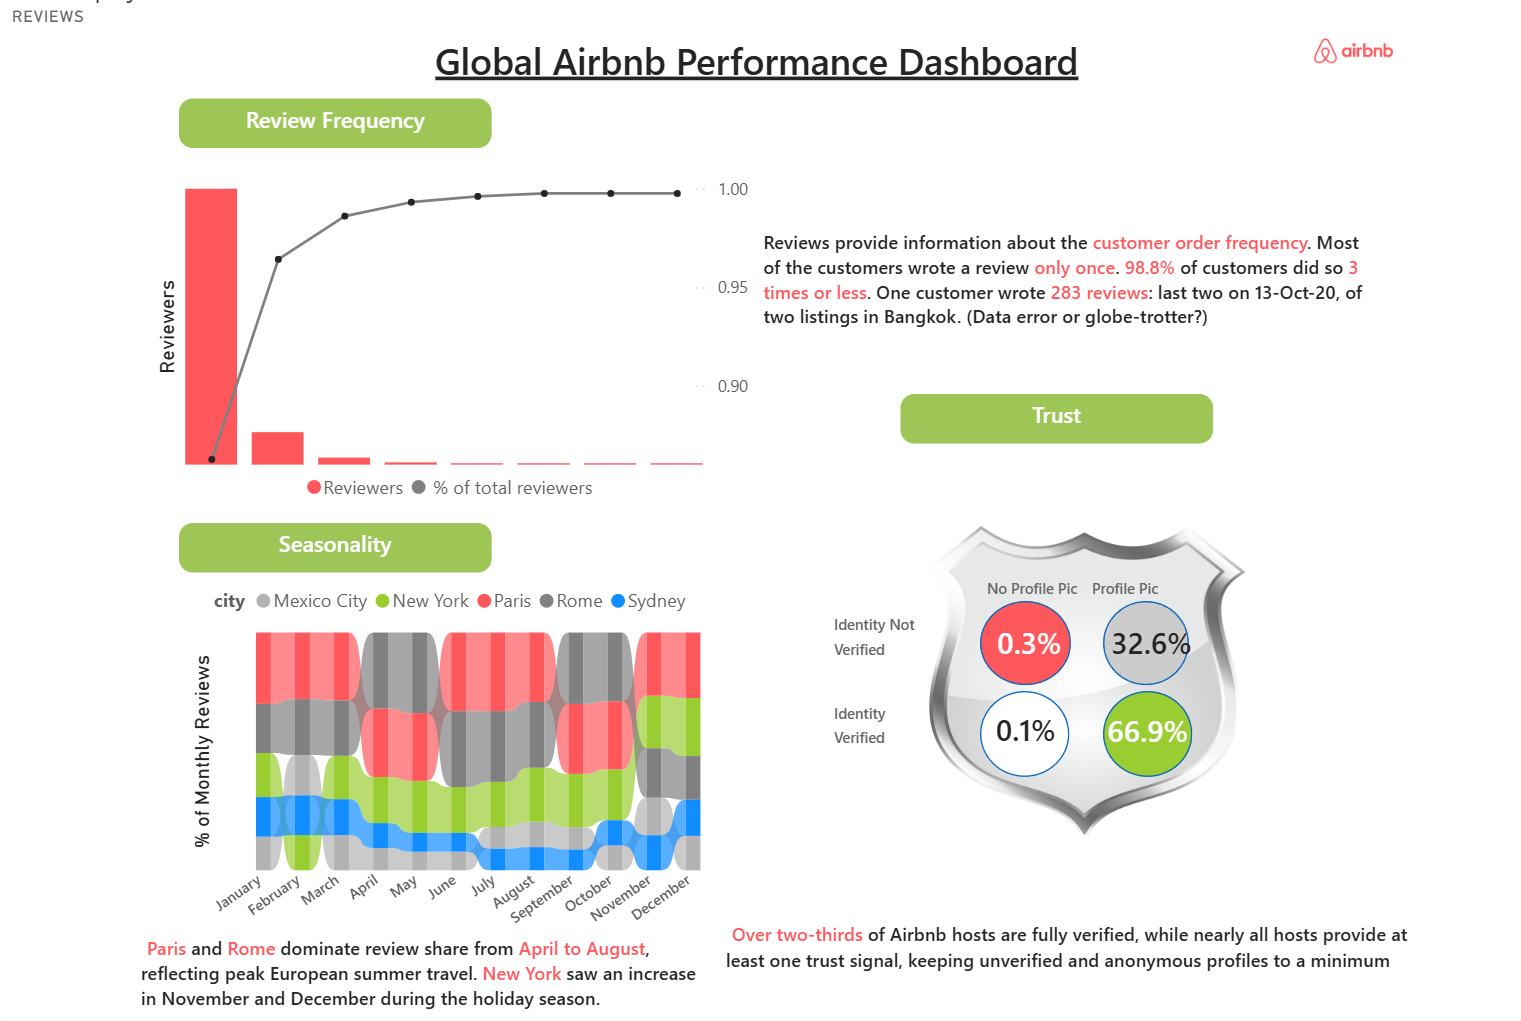

Layout of this report page (visuals, bound fields, positions):
{"tool":"powerbi","page":{"name":"Reviews","canvas":[960,720],"ordinal":2},"visuals":[{"type":"textbox","box":[231.4,0,497.1,51.8],"z":0},{"type":"image","box":[856,8,96,18],"z":1000},{"type":"textbox","box":[50,51.2,227.1,35.7],"z":2000},{"type":"textbox","box":[575,266.7,227.1,35.7],"z":4000},{"type":"textbox","box":[442.5,641.2,517.1,52.9],"z":5000},{"type":"lineStackedColumnComboChart","fields":{"Category":["Reviews.Reviews per Reviewer"],"Y":["Reviews.Reviewers"],"Y2":["Reviews.Cumulative % review frequency"]},"box":[28.8,102.5,441.2,250],"z":6000},{"type":"textbox","box":[470,141.1,456.7,86.7],"z":7000},{"type":"image","box":[480,302.5,457.5,348.8],"z":8000},{"type":"ribbonChart","fields":{"Category":["Reviews.date.Variation.Date Hierarchy.Month"],"Series":["Listings.city"],"Y":["Reviews.% of Monthly Reviews"]},"box":[53.8,396.2,392.5,266.2],"z":9000},{"type":"textbox","box":[632.5,391.2,76.2,28.8],"z":10000},{"type":"textbox","box":[708.8,391.2,76.2,28.8],"z":11000},{"type":"textbox","box":[521.2,417.5,72.5,48.8],"z":12000},{"type":"textbox","box":[521.2,482.5,72.5,48.8],"z":13000},{"type":"shape","box":[722.5,482.5,65,62.5],"z":14000},{"type":"cardVisual","fields":{"Data":["Listings.Verified_Profile %"]},"box":[706.2,477.7,98.8,62.5],"z":15000},{"type":"shape","box":[722.5,416.2,62.5,61.2],"z":16000},{"type":"shape","box":[632.5,482.5,65,62.5],"z":17000},{"type":"shape","box":[632.5,416.2,66.2,61.2],"z":18000},{"type":"cardVisual","fields":{"Data":["Listings.Verified_NoProfile %"]},"box":[628.8,482.5,76.2,52.5],"z":19000},{"type":"cardVisual","fields":{"Data":["Listings.NotVerified_NoProfile %"]},"box":[616.2,407.5,110,75],"z":20000},{"type":"cardVisual","fields":{"Data":["Listings.NotVerified_Profile %"]},"box":[698.8,415,123.8,61.2],"z":21000},{"type":"textbox","box":[50,360,227.1,35.7],"z":21001},{"type":"textbox","box":[17.8,651.1,427.8,68.9],"z":21002}]}

Visuals, with their boxes on the page's 960x720 design canvas (x1, y1, x2, y2). These are canvas units, not pixel positions in the 1521x1021 screenshot, which may show the page scaled, cropped or inside an application window:
textbox: BBox(231, 0, 728, 52)
image: BBox(856, 8, 952, 26)
textbox: BBox(50, 51, 277, 87)
textbox: BBox(575, 267, 802, 302)
textbox: BBox(442, 641, 960, 694)
lineStackedColumnComboChart - Reviews.Reviews per Reviewer x Reviews.Reviewers: BBox(29, 102, 470, 352)
textbox: BBox(470, 141, 927, 228)
image: BBox(480, 302, 938, 651)
ribbonChart - Reviews.date.Variation.Date Hierarchy.Month x Listings.city: BBox(54, 396, 446, 662)
textbox: BBox(632, 391, 709, 420)
textbox: BBox(709, 391, 785, 420)
textbox: BBox(521, 418, 594, 466)
textbox: BBox(521, 482, 594, 531)
shape: BBox(722, 482, 788, 545)
cardVisual - Listings.Verified_Profile %: BBox(706, 478, 805, 540)
shape: BBox(722, 416, 785, 477)
shape: BBox(632, 482, 698, 545)
shape: BBox(632, 416, 699, 477)
cardVisual - Listings.Verified_NoProfile %: BBox(629, 482, 705, 535)
cardVisual - Listings.NotVerified_NoProfile %: BBox(616, 408, 726, 482)
cardVisual - Listings.NotVerified_Profile %: BBox(699, 415, 823, 476)
textbox: BBox(50, 360, 277, 396)
textbox: BBox(18, 651, 446, 720)
